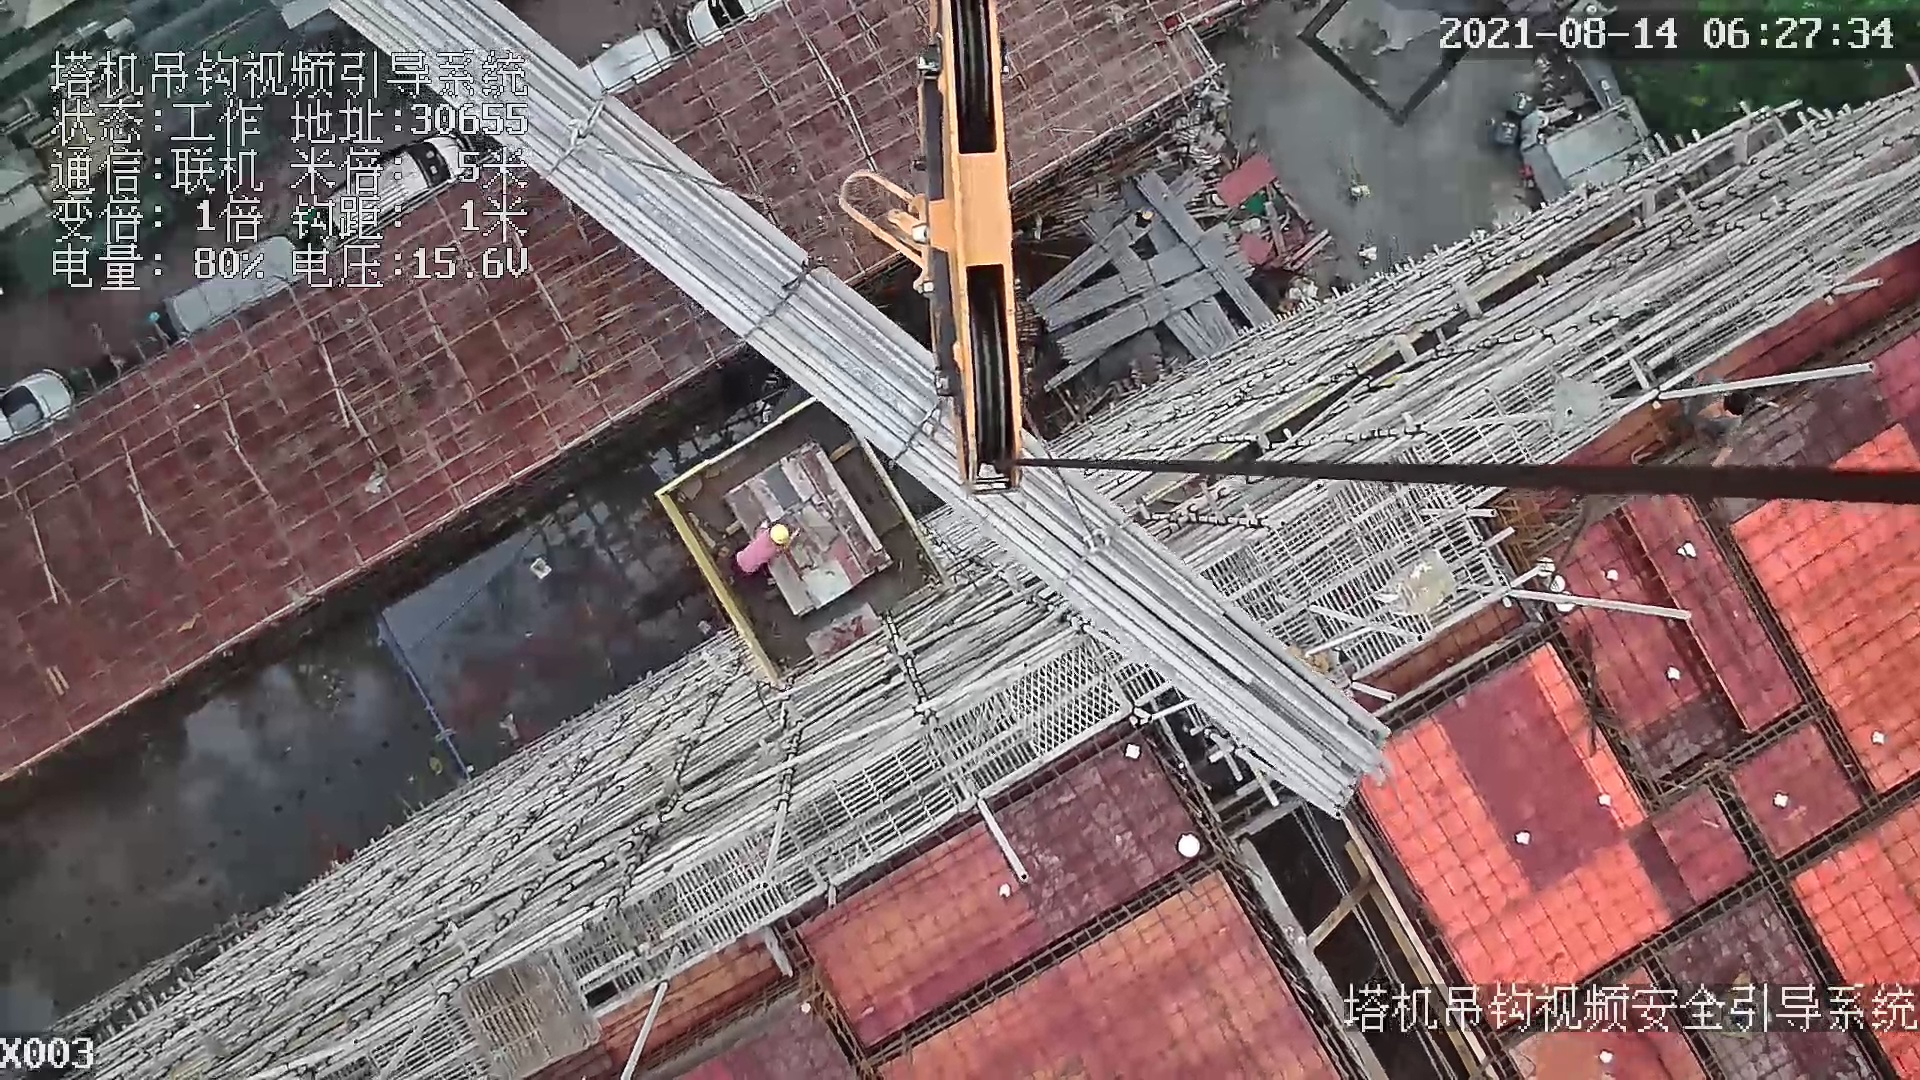helmet: (766, 521, 795, 547)
hook: (924, 1, 1028, 502)
person: (1687, 374, 1750, 467), (733, 518, 798, 575)
